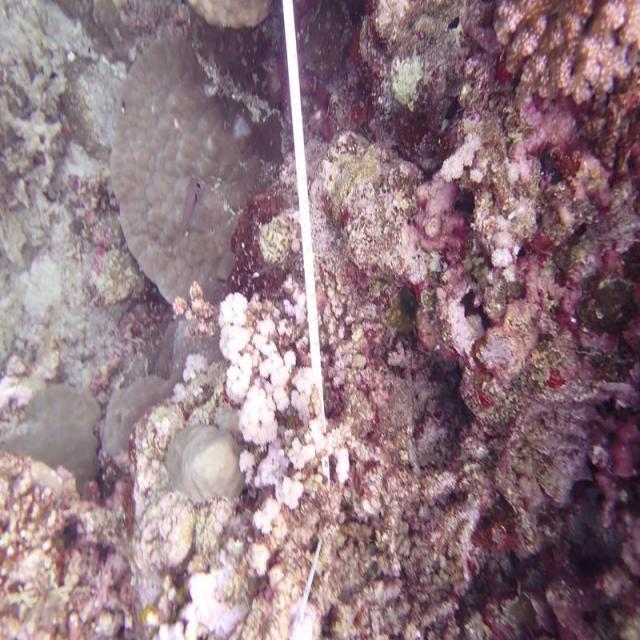Bleached Coral: (210, 296, 357, 521), (159, 563, 266, 640)
